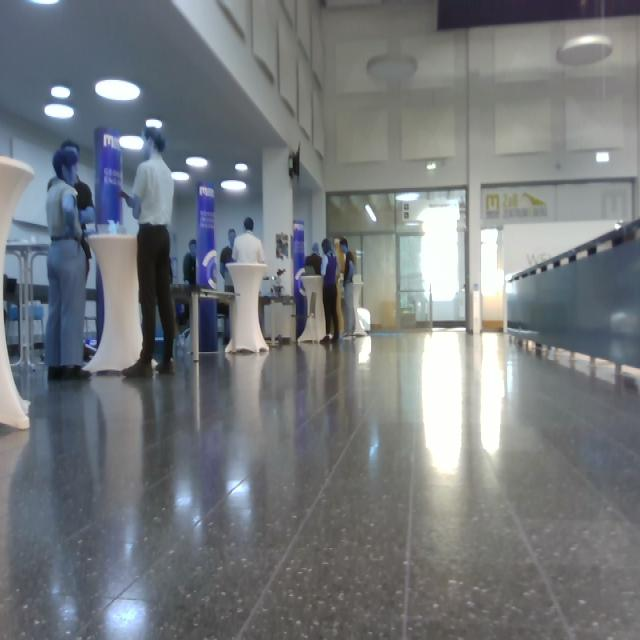light bulb: (556, 33, 613, 66), (367, 53, 418, 84), (95, 79, 141, 103), (45, 104, 75, 120), (119, 136, 144, 152), (221, 180, 247, 192), (51, 85, 71, 100), (186, 156, 208, 168), (365, 204, 377, 222), (146, 118, 163, 129), (171, 172, 190, 181), (27, 1, 60, 6), (235, 162, 248, 172)
person: (119, 127, 177, 379), (45, 148, 93, 381), (321, 239, 340, 343), (340, 239, 356, 339)
staircase: (504, 217, 639, 385)
tiled floor: (1, 327, 639, 639)
